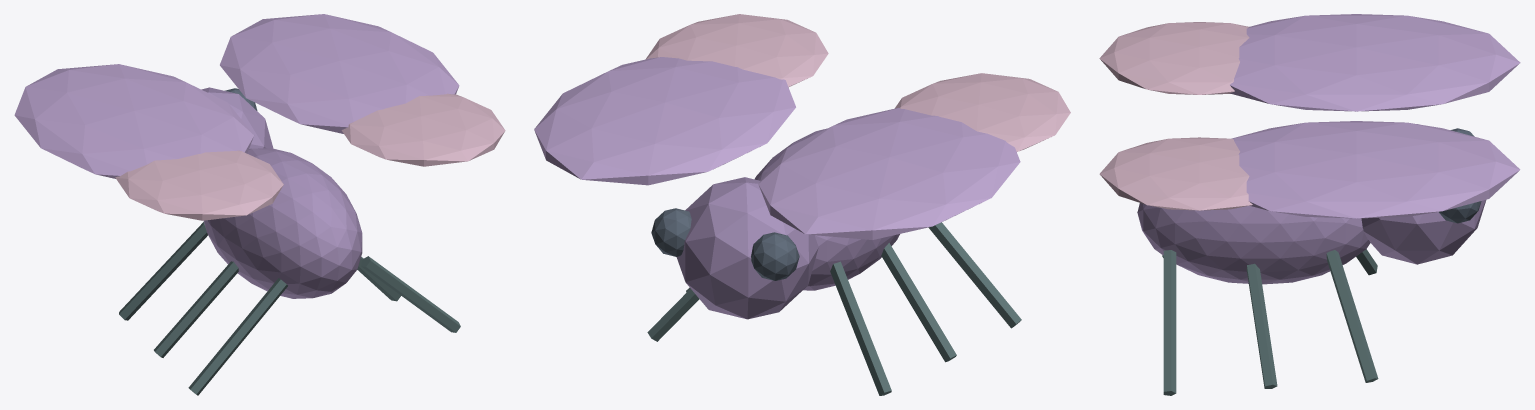
Rendered from butterfly.glb.
3 views of the same model, side by side, from view 1: azimuth 30°, elevation 25°; view 2: azimuth 150°, elevation 25°; view 3: azimuth 270°, elevation 25° (orthographic). The views are drawn at different scales.
Parts seen in each view (by area): view 1: Wing_1_front, Wing_-1_front, Body, Wing_-1_back, Wing_1_back, Leg_-1_2, Leg_-1_0, Leg_-1_1, Leg_1_2, Head, Leg_1_1; view 2: Wing_1_front, Wing_-1_front, Head, Wing_-1_back, Wing_1_back, Body, Leg_-1_0, Eye_-1, Leg_-1_1, Leg_-1_2, Eye_1, Leg_1_0; view 3: Wing_-1_front, Wing_1_front, Body, Wing_1_back, Wing_-1_back, Head, Leg_1_2, Leg_1_0, Leg_1_1, Eye_1.
Part boxes in pixels (x1,y1,x2,y2): Wing_1_front: [220, 14, 459, 133]; Wing_-1_front: [14, 64, 254, 178]; Body: [203, 148, 362, 298]; Wing_-1_back: [115, 150, 283, 220]; Wing_1_back: [341, 93, 505, 166]; Leg_-1_2: [188, 278, 287, 395]; Leg_-1_0: [119, 222, 207, 320]; Leg_-1_1: [154, 261, 238, 357]; Leg_1_2: [361, 256, 460, 332]; Head: [201, 87, 273, 148]; Leg_1_1: [357, 257, 400, 301]; Wing_1_front: [534, 57, 795, 185]; Wing_-1_front: [758, 107, 1020, 239]; Head: [676, 177, 818, 319]; Wing_-1_back: [895, 73, 1070, 151]; Wing_1_back: [645, 14, 828, 87]; Body: [754, 128, 899, 290]; Leg_-1_0: [830, 261, 891, 395]; Eye_-1: [751, 232, 799, 280]; Leg_-1_1: [881, 243, 956, 362]; Leg_-1_2: [928, 222, 1021, 328]; Eye_1: [651, 208, 691, 256]; Leg_1_0: [647, 288, 699, 341]; Wing_-1_front: [1230, 14, 1520, 111]; Wing_1_front: [1231, 121, 1520, 218]; Body: [1137, 203, 1370, 284]; Wing_1_back: [1099, 137, 1252, 210]; Wing_-1_back: [1099, 22, 1249, 94]; Head: [1361, 124, 1486, 264]; Leg_1_2: [1163, 250, 1176, 395]; Leg_1_0: [1326, 250, 1378, 382]; Leg_1_1: [1246, 263, 1277, 388]; Eye_1: [1439, 201, 1481, 223].
Size of the model in its own units: 0.956 by 0.4983 by 0.832.
